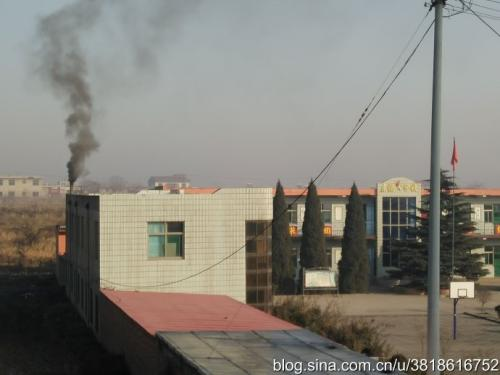smoke: (37, 1, 102, 181)
